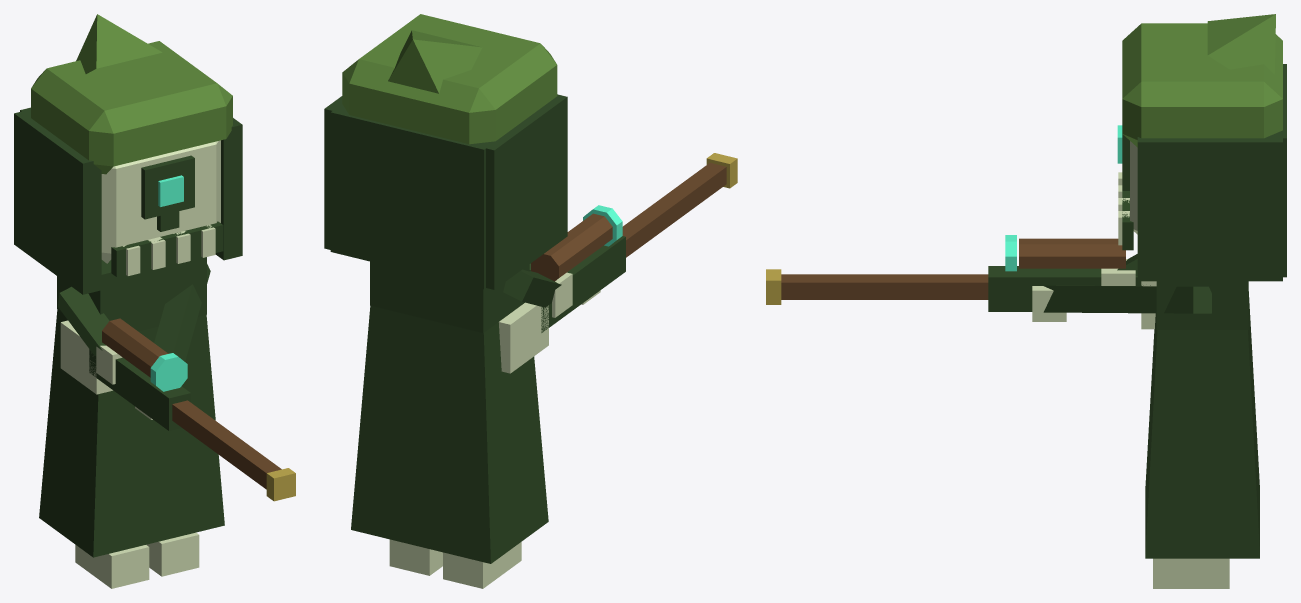
Rendered from sniper_enemy_r6.glb.
3 renders of one model, left to right at view 1: azimuth 30°, elevation 25°; view 2: azimuth 150°, elevation 25°; view 3: azimuth 270°, elevation 25°, orthographic. The views are drawn at different scales.
Parts seen in each view (by area): view 1: sniper_enemy_r6_mesh; view 2: sniper_enemy_r6_mesh; view 3: sniper_enemy_r6_mesh.
Boxes of the visible parts, left/top/right/bottom form: sniper_enemy_r6_mesh: left=14, top=14, right=295, bottom=588; sniper_enemy_r6_mesh: left=324, top=14, right=737, bottom=588; sniper_enemy_r6_mesh: left=766, top=14, right=1286, bottom=588.
Size of the model in its own units: 0.5449 by 1.7 by 1.45.
1 material, 1 textured.
